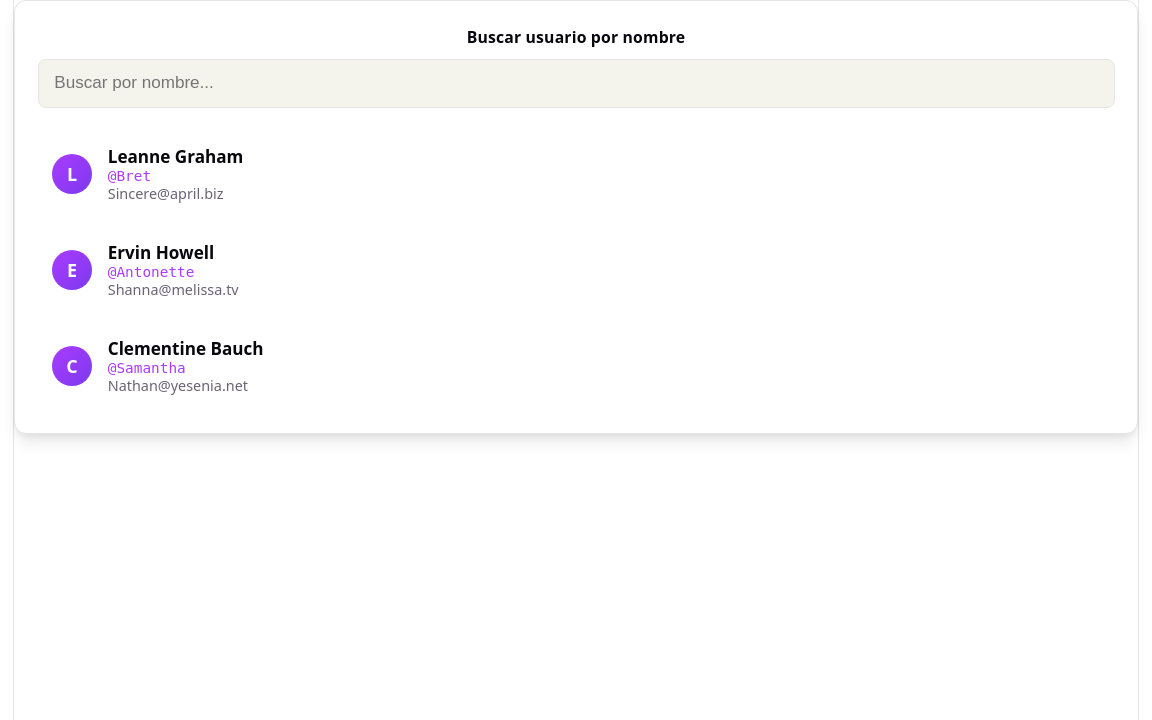
Scenario: UserList component › filtra usuarios en tiempo real ignorando mayúsculas/minúsculas y espacios extremos
The image size is (1152, 720).
# Búsqueda con espacios extremos y mayúsculas
In the search field labelled "Buscar usuario por nombre": (576, 83) [38,59,1114,108], type "   ERVIN   "
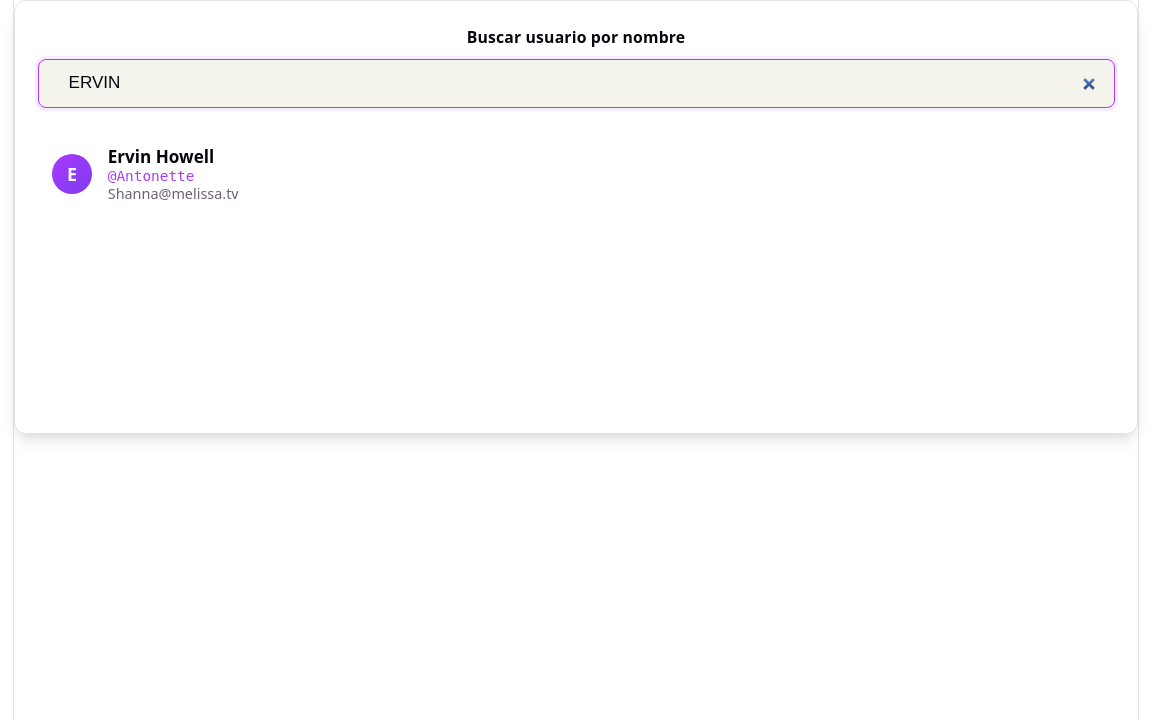
Expected: the text "Ervin Howell" is shown, [108,145,214,168]
Now the button "Leanne Graham" is gone
Now the button "Clementine Bauch" is gone
